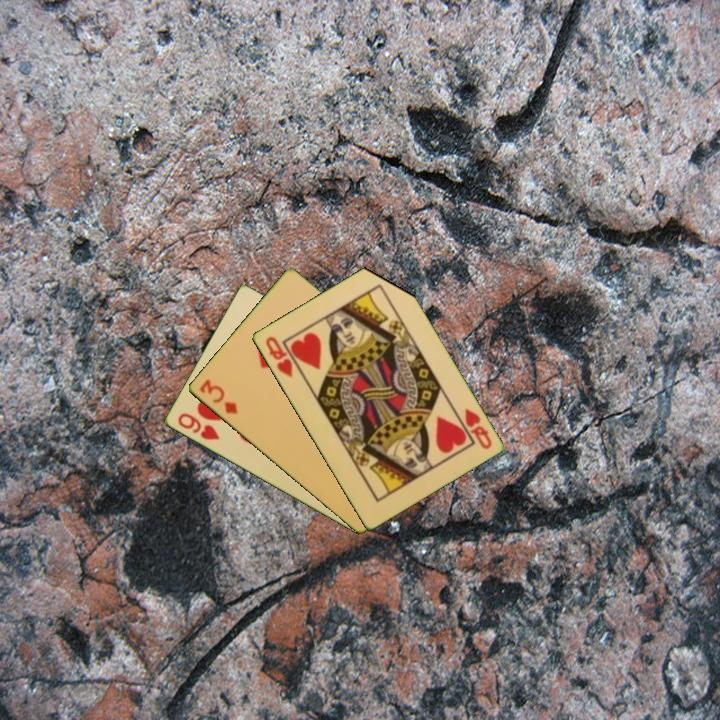3d: (195, 375, 241, 417)
9h: (174, 409, 222, 443)
Qh: (261, 333, 295, 381), (461, 405, 494, 452)
